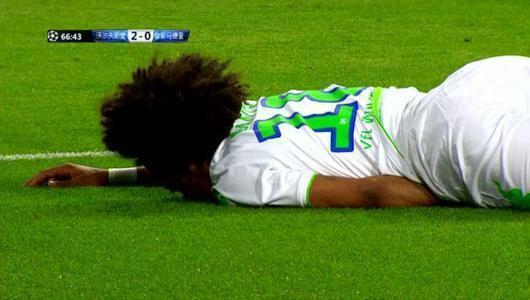Fall-Detected: (0, 45, 530, 216)
